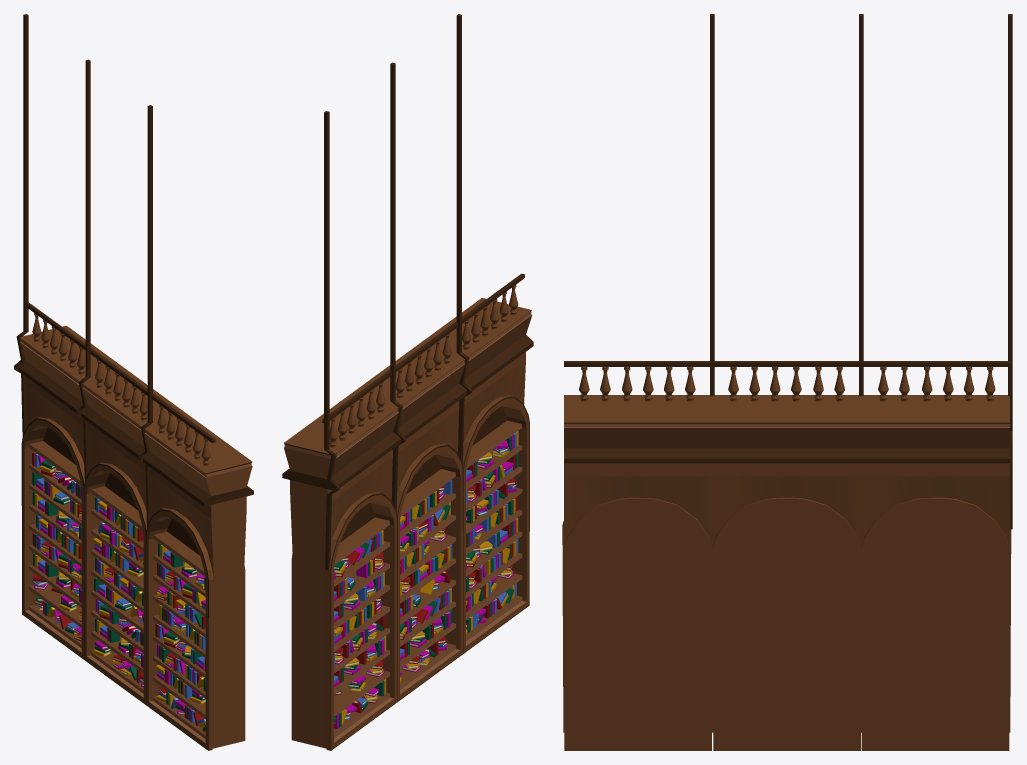
Rendered from boekenmuur_lang.fbx.
3 renders of one model, left to right at view 1: azimuth 30°, elevation 25°; view 2: azimuth 150°, elevation 25°; view 3: azimuth 270°, elevation 25°, orthographic. The views are drawn at different scales.
Visible parts, largest first — view 1: main_closet1, books1, fence_and_wire_detail1; view 2: main_closet1, books1, fence_and_wire_detail1; view 3: main_closet1, fence_and_wire_detail1.
Part boxes in pixels (x1,y1,x2,y2): main_closet1: (18,325,253,750); books1: (32,452,205,731); fence_and_wire_detail1: (14,14,215,525); main_closet1: (282,298,533,750); books1: (334,431,518,728); fence_and_wire_detail1: (322,14,524,570); main_closet1: (562,395,1011,750); fence_and_wire_detail1: (564,14,1012,529).
Bounding box in the file's own units: 2.9 × 31.43 × 17.87.
